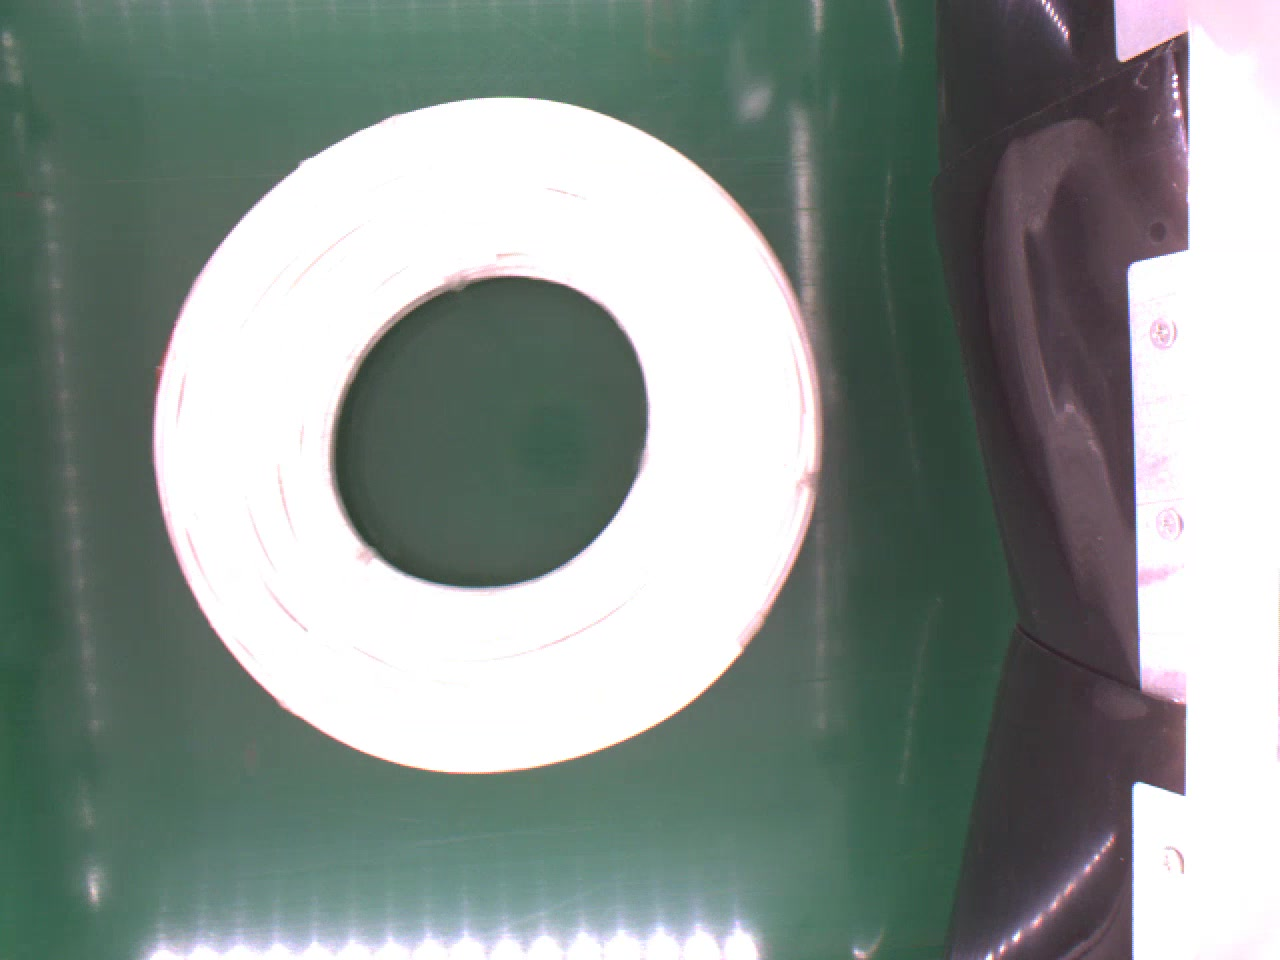white: (147, 91, 831, 784)
